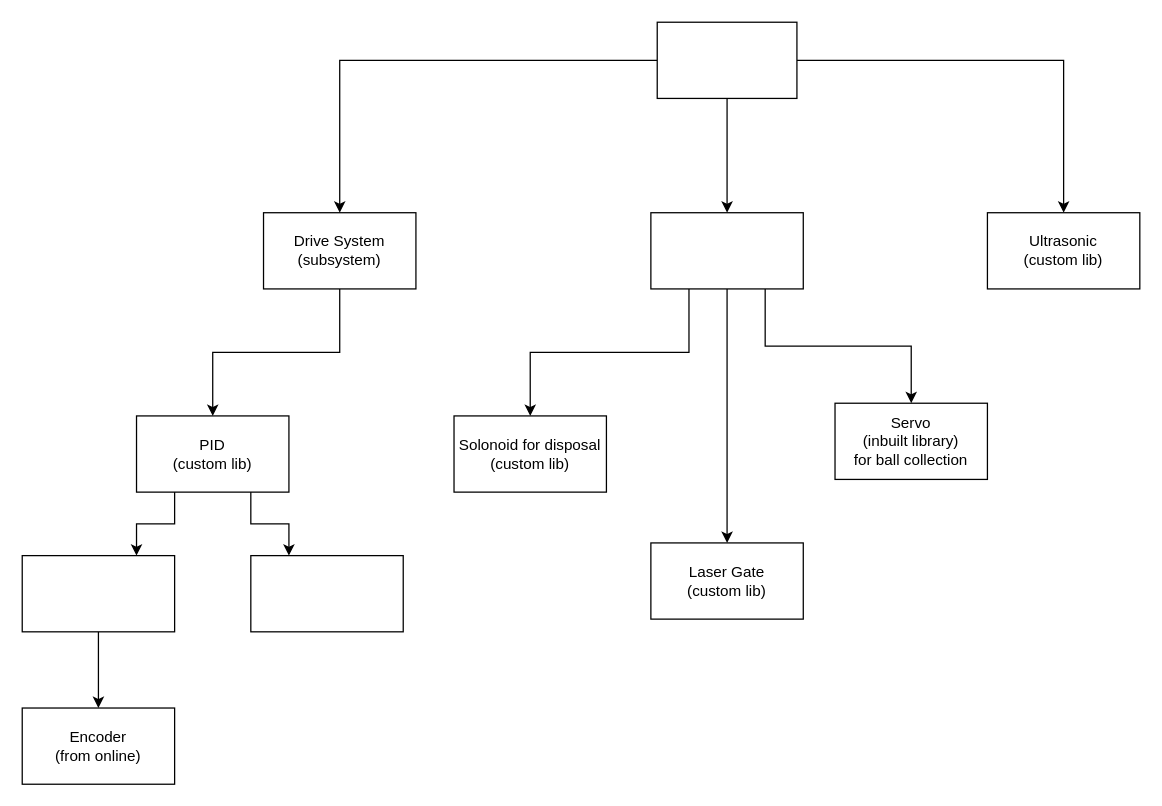
Image size: 1162x806. Some labels were removed from this diagram. The shapes that lost their labels are listed below. From the top down, each one's centre as x and y in pixels, then its label:
the point at 726,59: Sensors and Movement System
the point at 726,250: Ball Collection (subsystem)
the point at 98,593: EncoderSpeed (custom lib)
the point at 326,593: Servo (inbuilt library)
